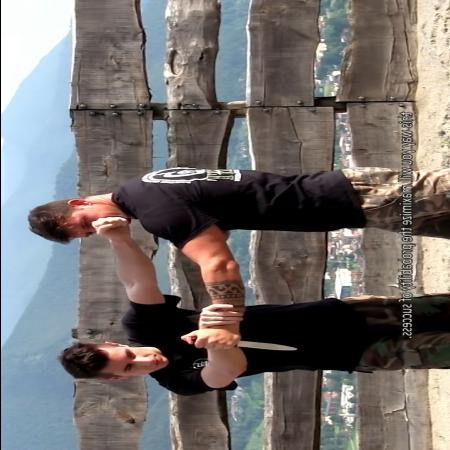long weapon: (179, 332, 299, 352)
